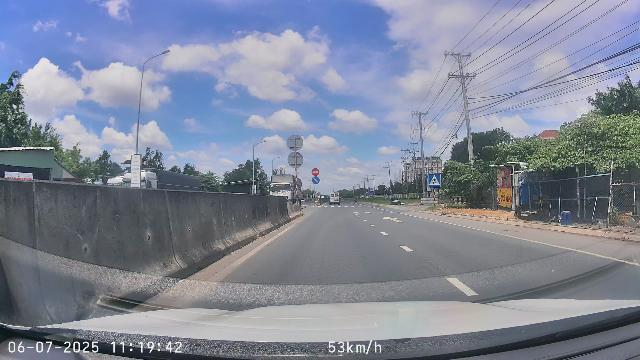102-cam-di-nguoc-chieu: (312, 168, 319, 176)
302a-huong-phai-di-vong-chuong-ngai-vat-1: (312, 176, 320, 184)
423a-duong-nguoi-di-bo-sang-ngang-1: (428, 174, 441, 187)
